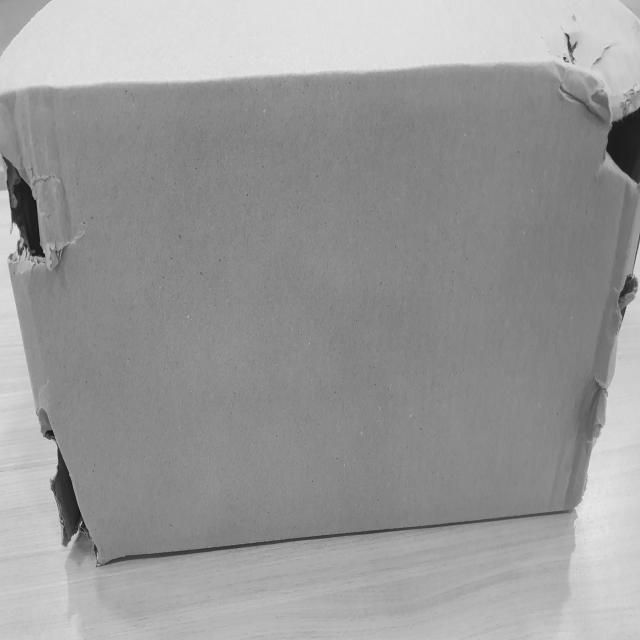hole: (36, 407, 104, 553), (6, 147, 76, 269), (584, 76, 640, 214)
